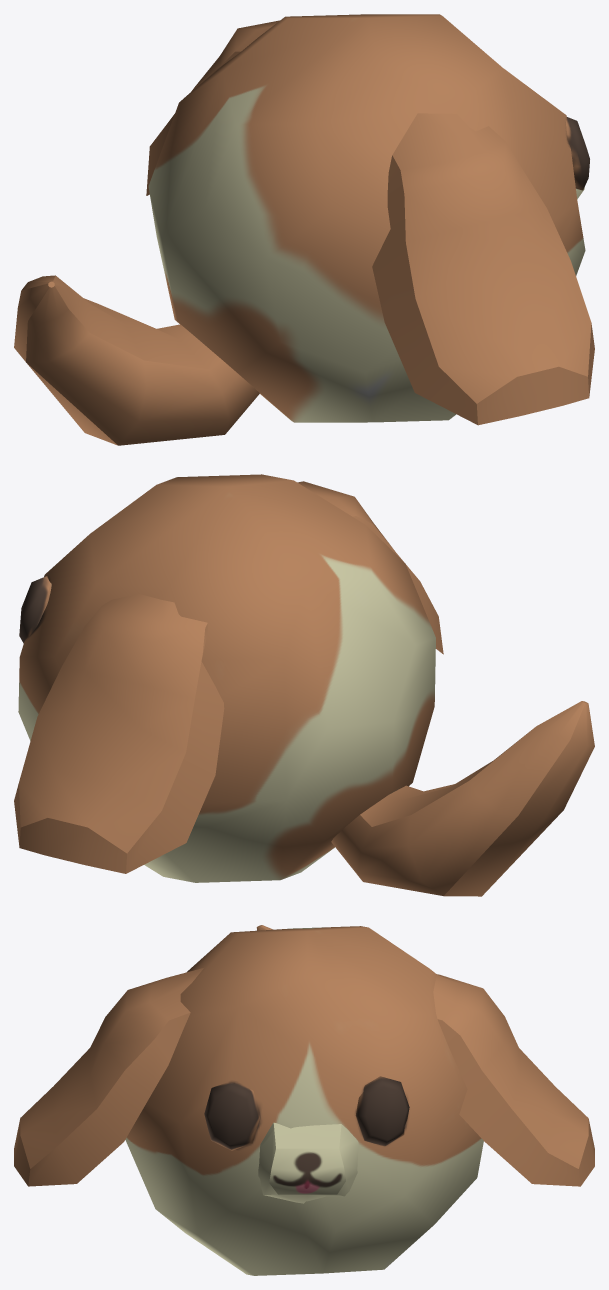
File: dog.fbx
3 views of the same model, one above another, from view 1: azimuth 30°, elevation 25°; view 2: azimuth 150°, elevation 25°; view 3: azimuth 270°, elevation 25° (orthographic). The views are drawn at different scales.
Visible parts, largest first — view 1: pSolid1, pCube3, pCube4, pCube1, pCube6; view 2: pSolid1, pCube1, pCube4, pCube3, pCube5; view 3: pSolid1, pCube3, pCube1, pCube2, pCube6, pCube5.
Part boxes in pixels (box(x1,y1,x2,y2)): pSolid1: box(148, 14, 585, 422); pCube3: box(372, 113, 594, 425); pCube4: box(14, 275, 259, 445); pCube1: box(146, 20, 279, 195); pCube6: box(565, 117, 589, 190); pSolid1: box(18, 474, 435, 882); pCube1: box(14, 594, 224, 873); pCube4: box(331, 701, 594, 896); pCube3: box(297, 481, 443, 654); pCube5: box(19, 576, 51, 643); pSolid1: box(125, 926, 483, 1275); pCube3: box(14, 968, 203, 1186); pCube1: box(433, 974, 594, 1186); pCube2: box(258, 1122, 358, 1203); pCube6: box(204, 1082, 259, 1150); pCube5: box(355, 1076, 409, 1146).
Bounding box in the file's own units: 6.28 × 4.24 × 6.58.
Materials: 1 (1 with a texture image).
